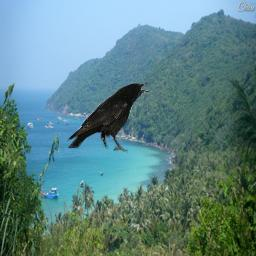Crow: (66, 81, 151, 154)
